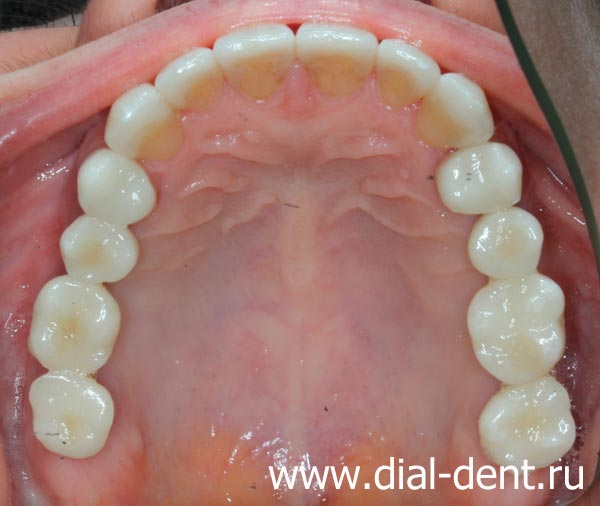UL1BC_decay: (428, 143, 522, 217)
UL1M_healthy: (467, 275, 564, 383)
UL2BC_healthy: (469, 207, 542, 275)
UL2M_healthy: (475, 376, 572, 454)
ULCI_healthy: (294, 26, 379, 105)
ULC_healthy: (412, 68, 497, 150)
ULLI_healthy: (373, 38, 440, 112)
UR1BC_healthy: (75, 150, 157, 227)
UR1M_healthy: (29, 274, 123, 375)
UR2BC_healthy: (54, 219, 138, 285)
UR2M_healthy: (28, 367, 115, 460)
URCI_healthy: (214, 21, 296, 105)
URC_healthy: (102, 80, 191, 164)
URLI_healthy: (157, 43, 222, 113)
